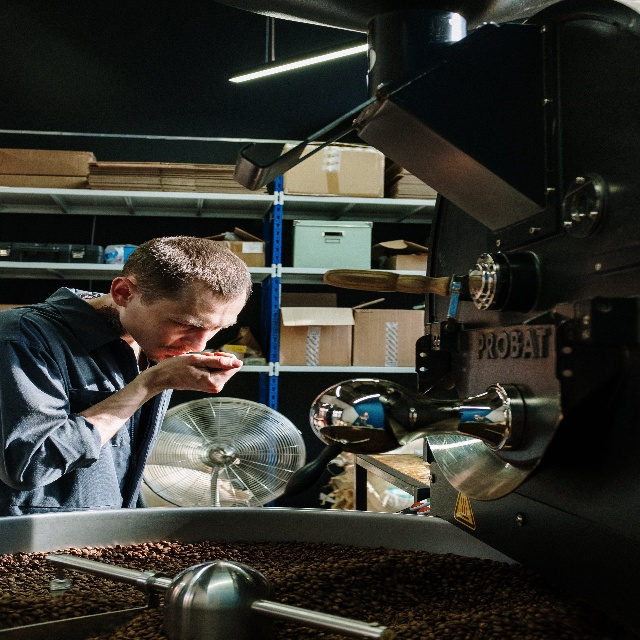Sin_guantes: (147, 351, 243, 395)
